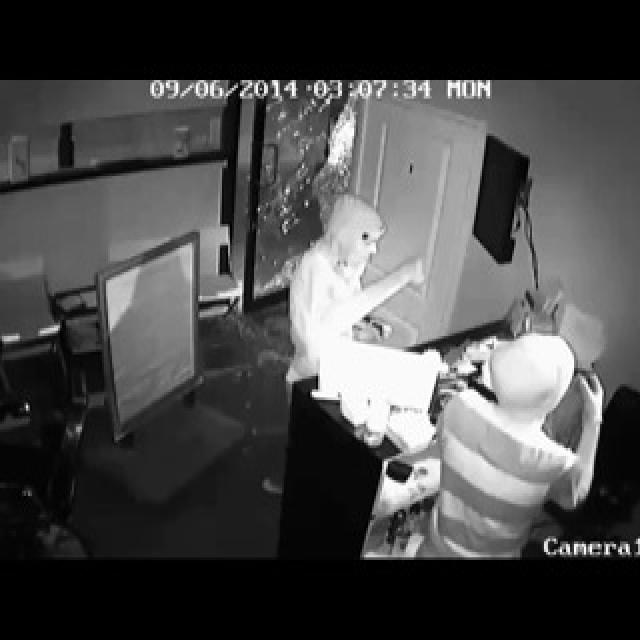thief: (463, 332, 618, 528), (286, 196, 434, 400)
